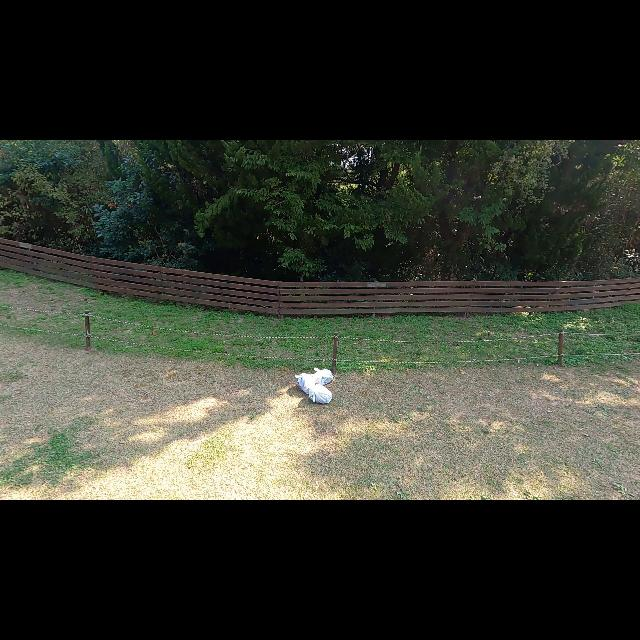trash: (295, 371, 323, 393), (308, 384, 334, 404), (311, 366, 333, 384)
